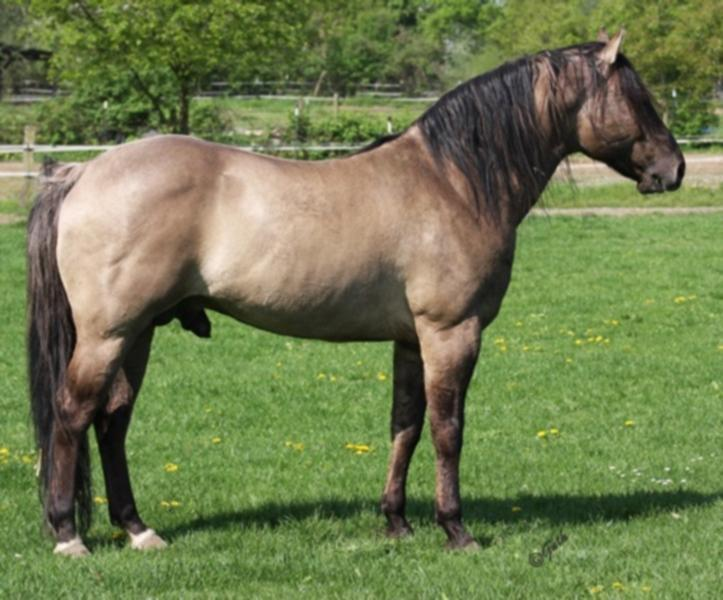horse: (8, 21, 694, 565)
